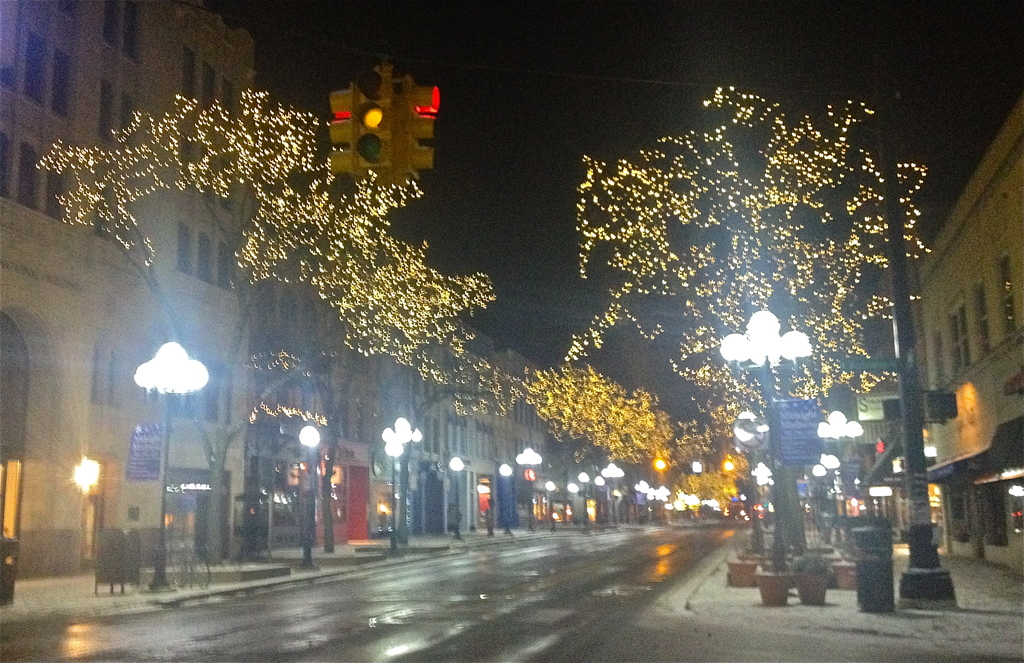red_light: (408, 78, 444, 117)
yellow_light: (356, 102, 389, 132)
